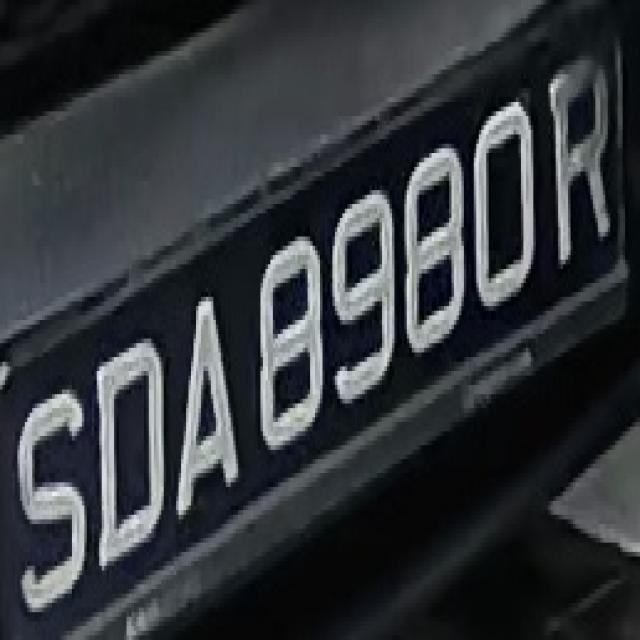0: (469, 88, 538, 329)
8: (248, 232, 332, 454), (399, 130, 476, 366)
9: (322, 176, 402, 418)
A: (166, 260, 241, 514)
D: (86, 339, 174, 561)
R: (538, 46, 613, 274)
S: (8, 376, 90, 608)
